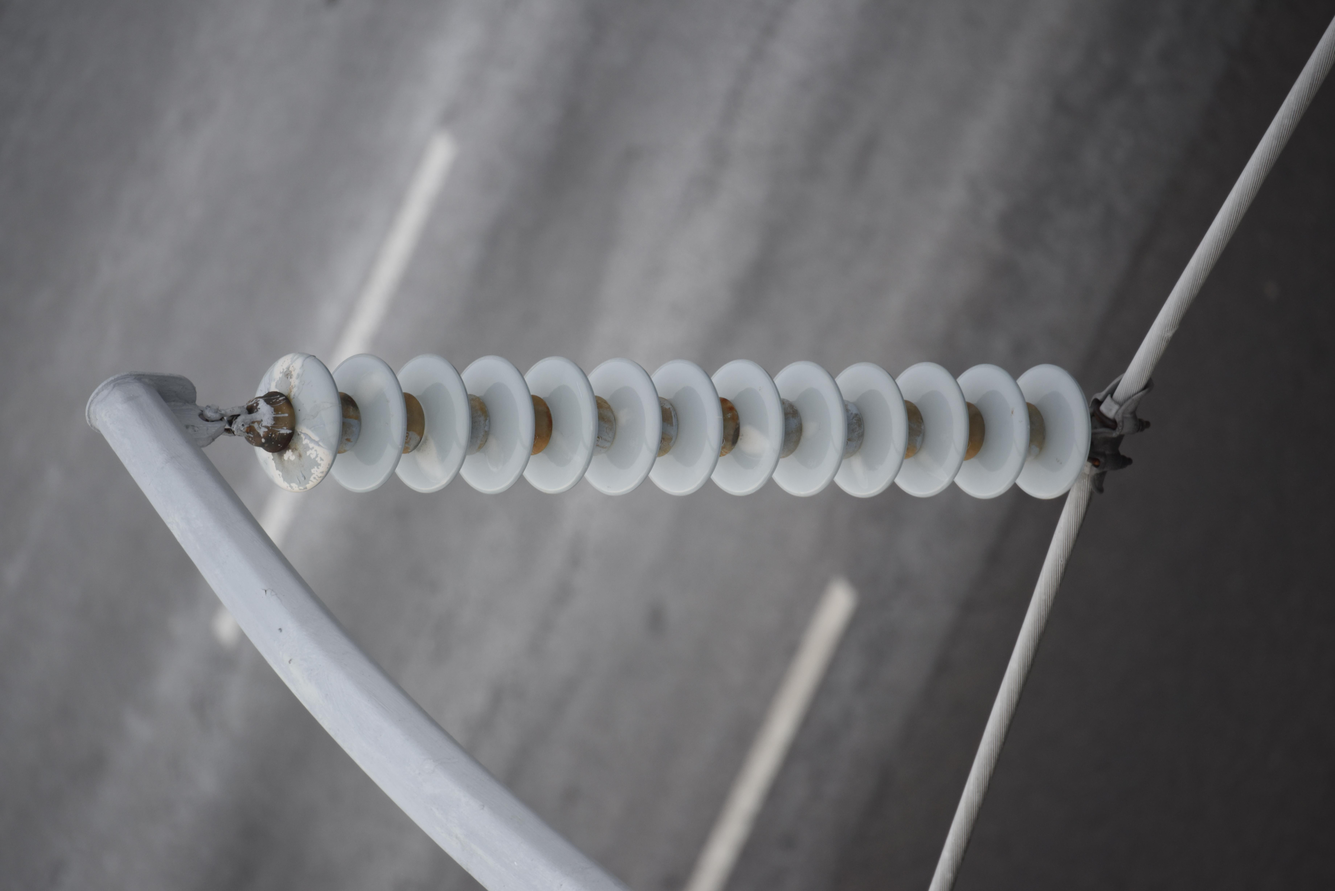Flashover: (264, 431, 332, 489), (263, 352, 309, 400)
insulator: (232, 347, 1089, 502)
